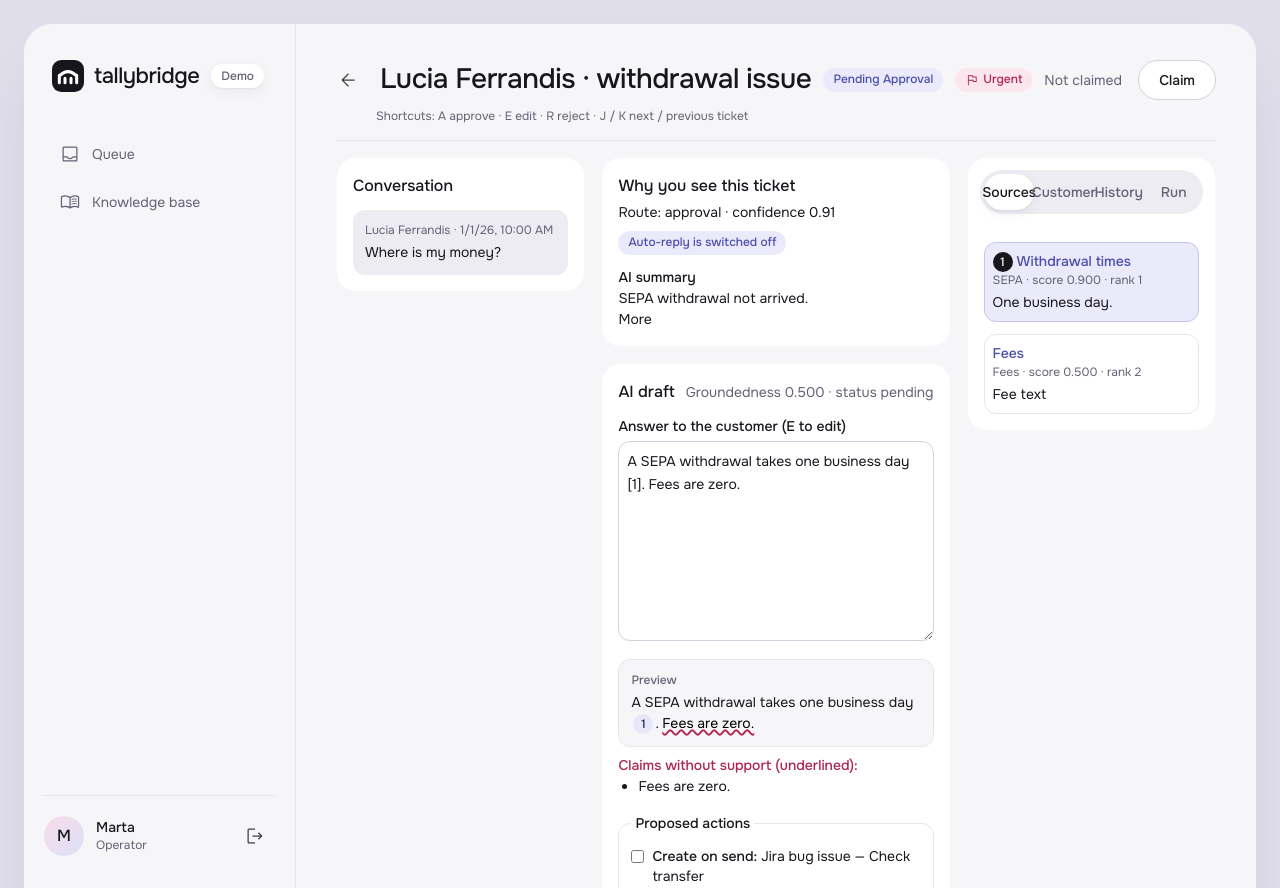
Scenario: customer tab › says Unknown, never No, when the profile could not be read
The width and height of the screenshot is (1280, 888).
Step 1. Click the tab "Customer" → (1064,192), box top-left (1038, 174), bottom-right (1089, 210)
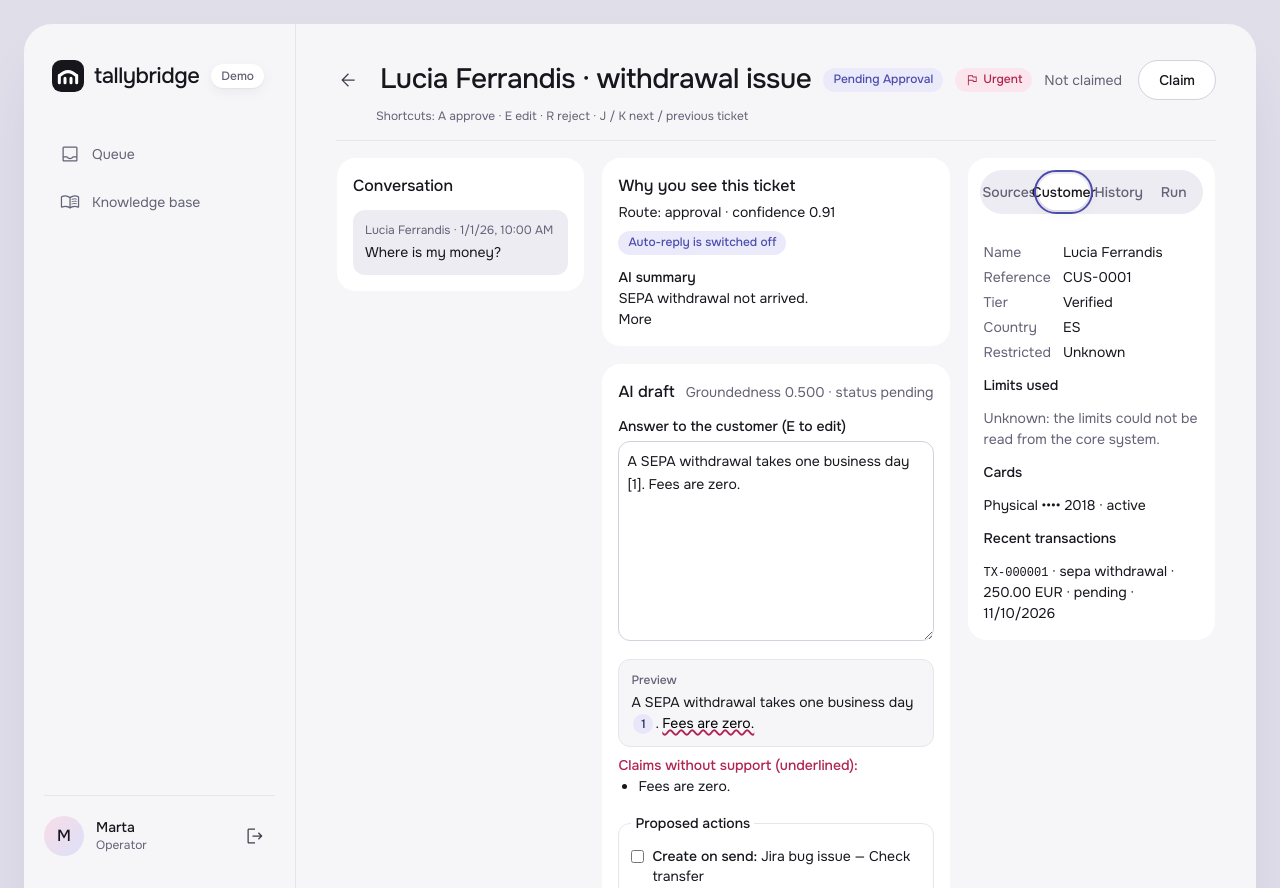
Now the text "Unknown: the limits could not be read from the core system." is shown, box top-left (984, 408), bottom-right (1199, 450)
Now the text "Unknown" is shown, box top-left (1063, 343), bottom-right (1125, 361)
